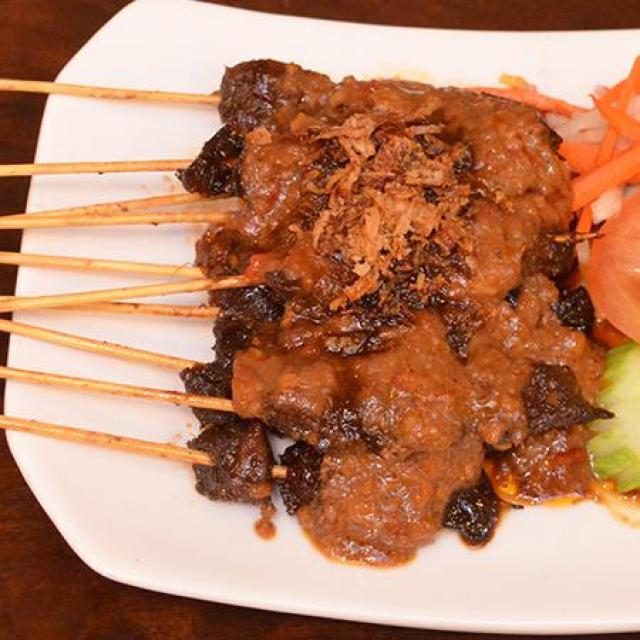Sate: (13, 67, 560, 540)
